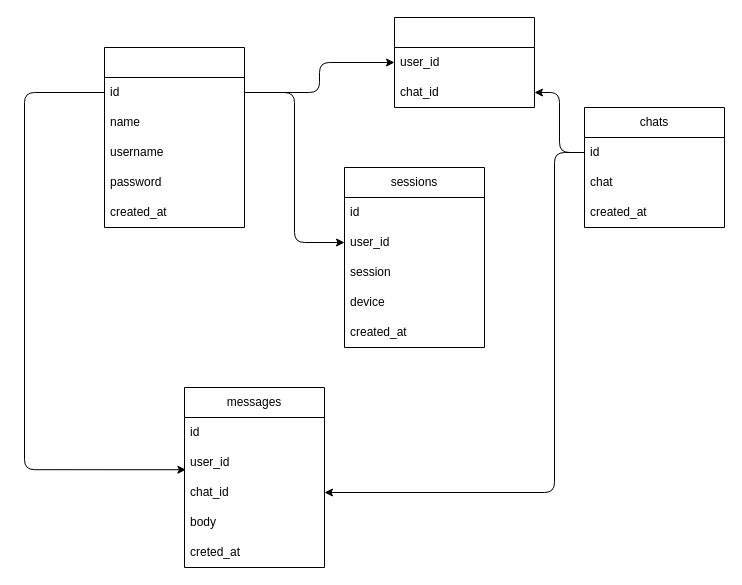
Some shapes in this 742 by 585 pixel diagram are drawn without their labels. Here are the shapes that lost their labels. From the top down, the box of each, then its label:
(394, 16, 534, 108): chat_user
(104, 46, 244, 228): users
